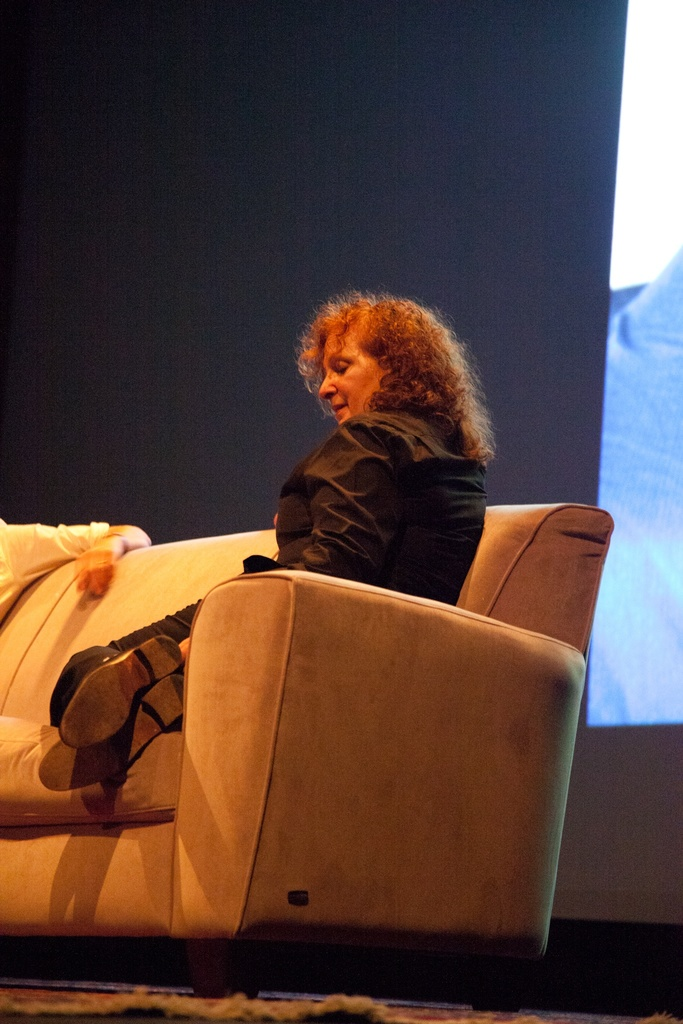Couch: (0, 486, 632, 998)
